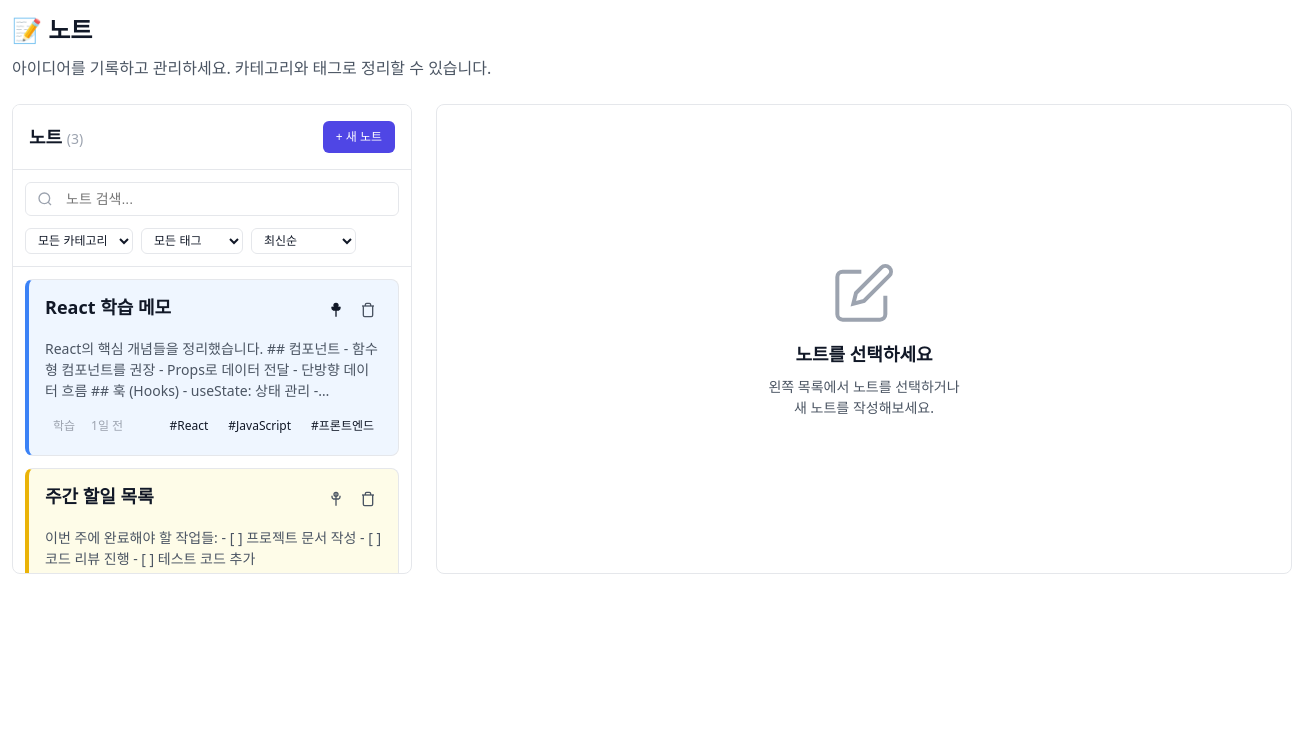
Notes Page › 노트를 선택하고 수정 버튼을 클릭하면 편집 모드가 된다
What coordinates should you click on to do the following:
click the heading "React 학습 메모"
I would click on:
 (108, 308)
Its box is x1=45 y1=296 x2=171 y2=319.
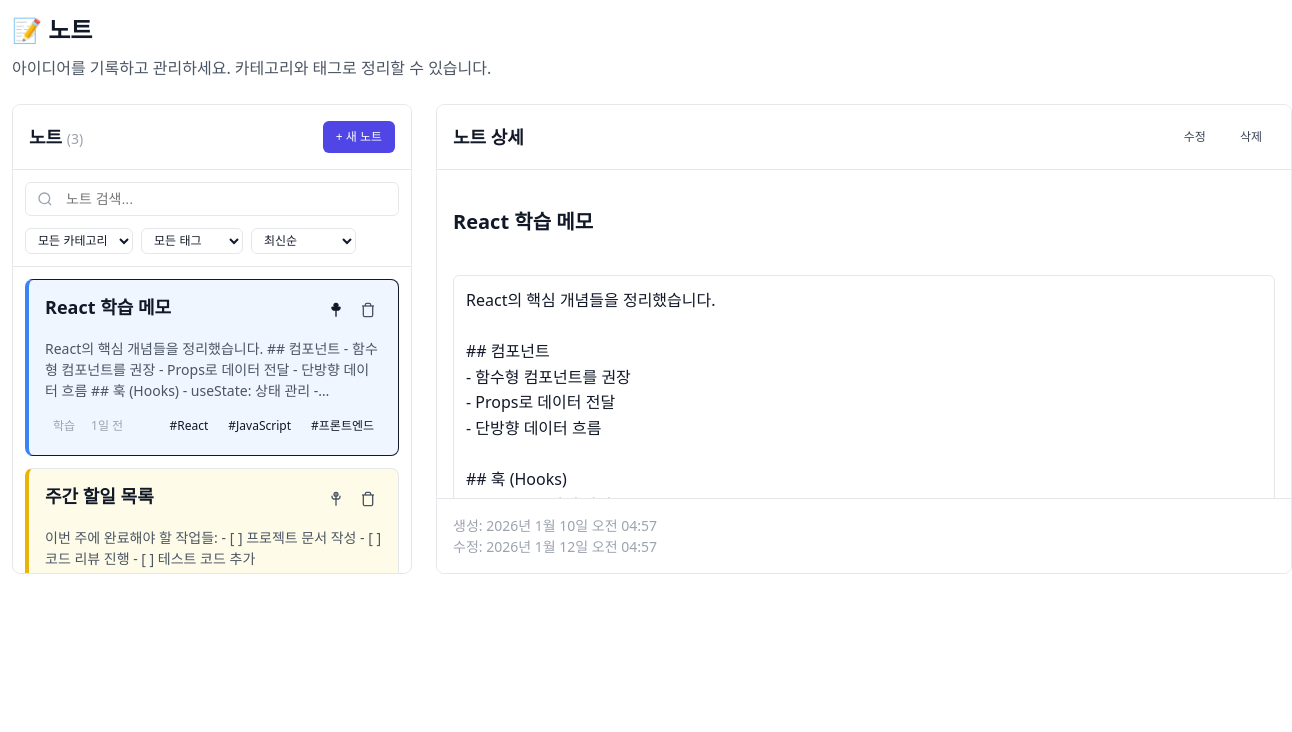
Note: 수정 버튼 클릭
What coordinates should you click on to do the following:
click the button "수정"
I would click on:
 (1195, 137)
Its box is x1=1171 y1=121 x2=1219 y2=153.
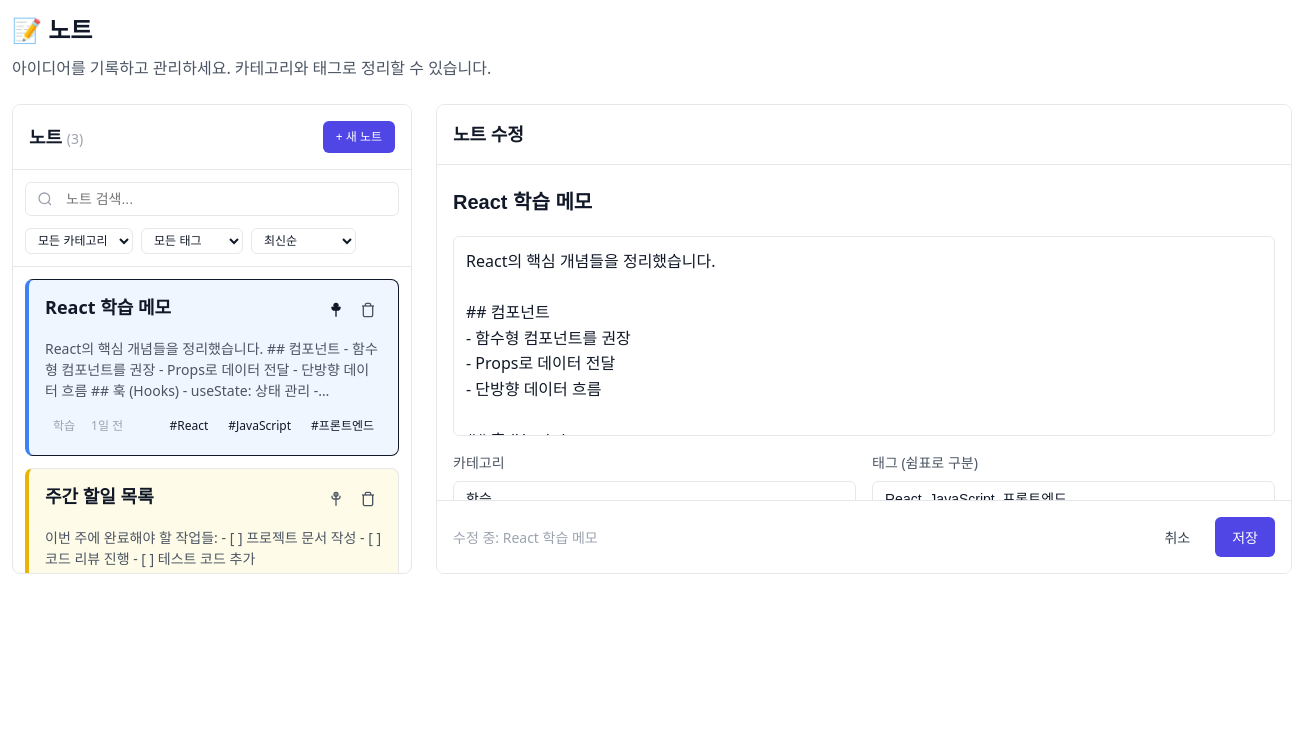
Result: the field with placeholder "제목을 입력하세요" is shown at x1=453 y1=181 x2=1275 y2=220
